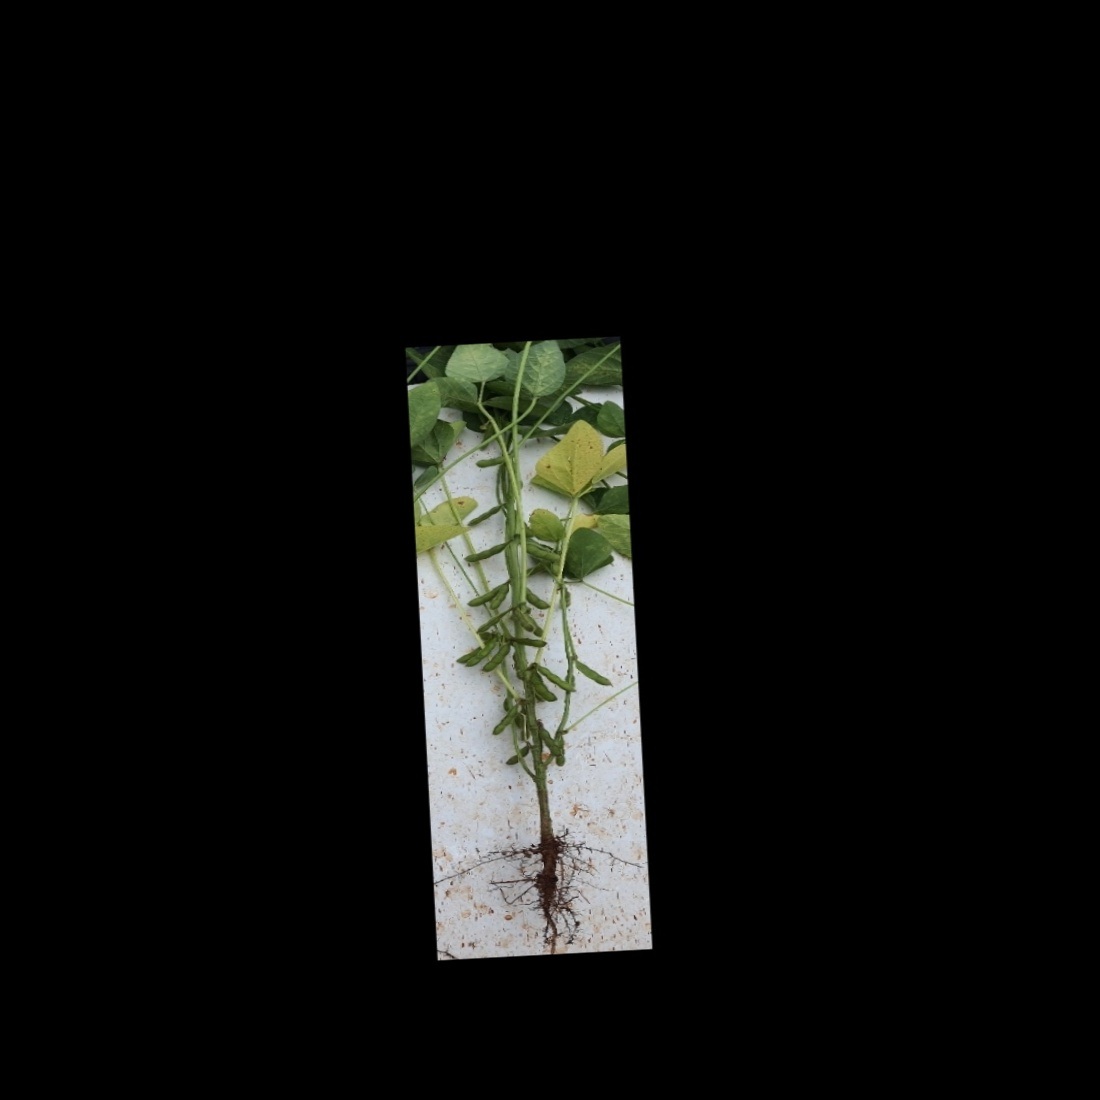pod: (460, 537, 516, 564), (460, 499, 512, 528), (572, 655, 613, 689), (539, 661, 582, 693), (488, 702, 521, 737), (472, 609, 517, 634), (482, 642, 514, 674), (526, 669, 556, 703), (519, 586, 552, 611), (501, 743, 531, 767), (473, 452, 511, 469), (510, 633, 548, 649), (552, 734, 567, 769)
soy: (428, 363, 630, 931)
